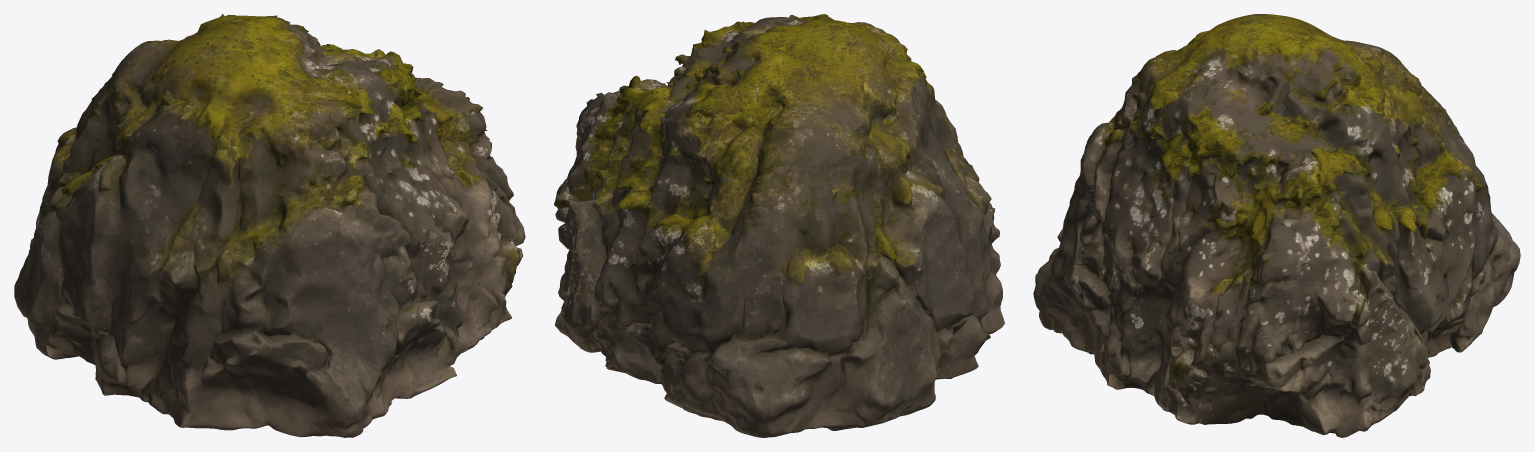
The picture shows the model from 3 angles, left to right: view 1: azimuth 30°, elevation 25°; view 2: azimuth 150°, elevation 25°; view 3: azimuth 270°, elevation 25°; orthographic projection. The views are drawn at different scales.
Parts seen in each view (by area): view 1: tripo_node_0134595e-8384-4d1d-9804-1ac5871bdbe0; view 2: tripo_node_0134595e-8384-4d1d-9804-1ac5871bdbe0; view 3: tripo_node_0134595e-8384-4d1d-9804-1ac5871bdbe0.
Boxes of the visible parts, x1,y1,x2,y2 form: tripo_node_0134595e-8384-4d1d-9804-1ac5871bdbe0: (14, 14, 525, 437); tripo_node_0134595e-8384-4d1d-9804-1ac5871bdbe0: (554, 14, 1004, 437); tripo_node_0134595e-8384-4d1d-9804-1ac5871bdbe0: (1033, 14, 1520, 437).
Size of the model in its own units: 0.9633 by 0.7121 by 1.
1 material, 1 textured.
